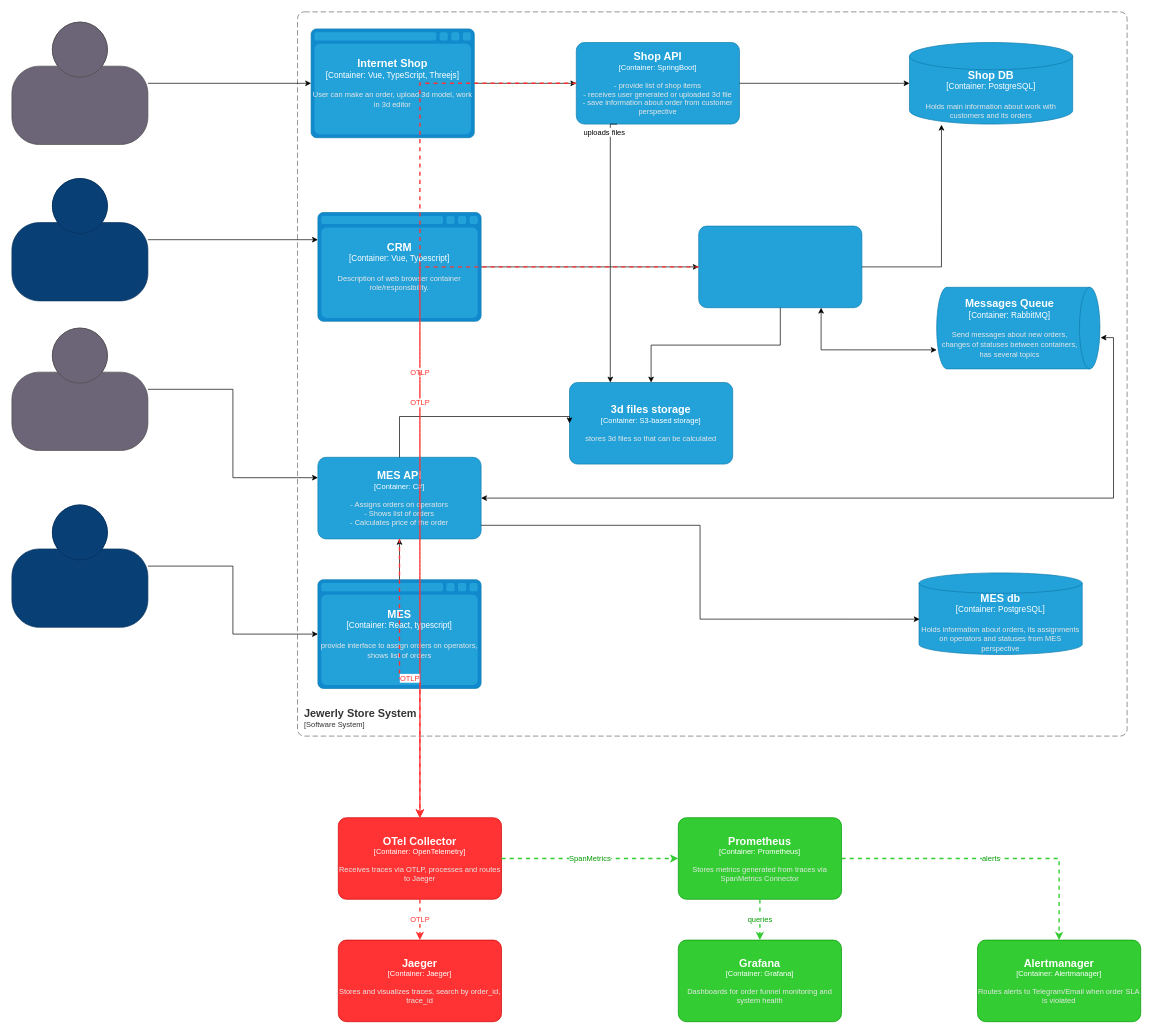
Image size: 1153x1034. Some labels were removed from this diagram. Each missing label, with the centre of its shape:
"API user [Person] Description of external person." goes at [79,389].
"CRM API [Container: SpringBoot] Description of container role/responsibility." goes at [780,266].
"Customer [Person] Description of external person." goes at [79,82].
"Operator [Person] Takes order in work, manufactures jewerly" goes at [79,565].
"Seller [Person] Operates with order, confirms manufacturing for the user" goes at [79,239].
